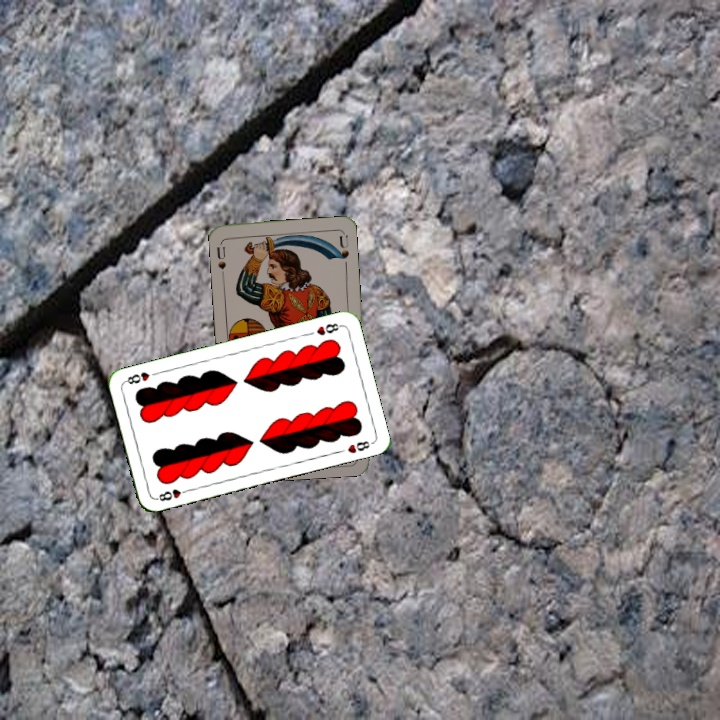H8: (152, 485, 192, 504), (312, 319, 344, 338)
SU: (213, 239, 228, 279)
